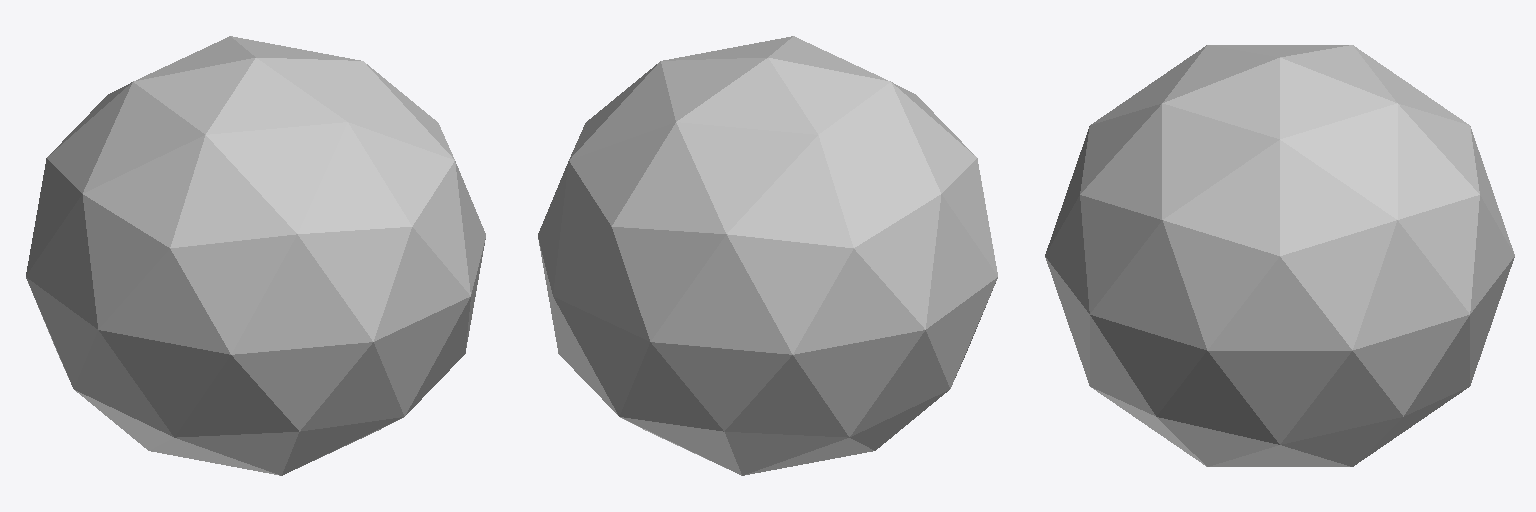
3 views of the same model, side by side, from view 1: azimuth 30°, elevation 25°; view 2: azimuth 150°, elevation 25°; view 3: azimuth 270°, elevation 25° (orthographic).
Visible parts, largest first — view 1: 棱角球; view 2: 棱角球; view 3: 棱角球.
Boxes of the visible parts, <box> form: 棱角球: <box>26,36,485,475</box>; 棱角球: <box>538,36,997,475</box>; 棱角球: <box>1045,45,1514,466</box>.
Bounding box in the file's own units: 1.82 × 1.78 × 1.91.